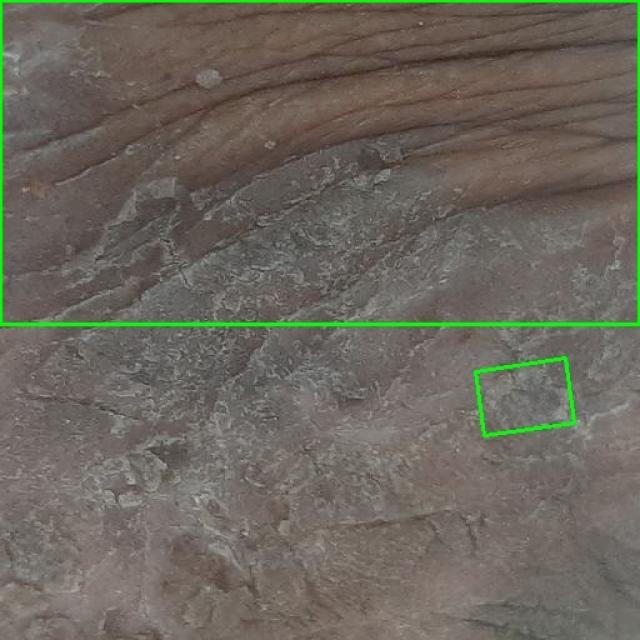Eczema: (0, 0, 639, 324), (475, 359, 575, 436)
